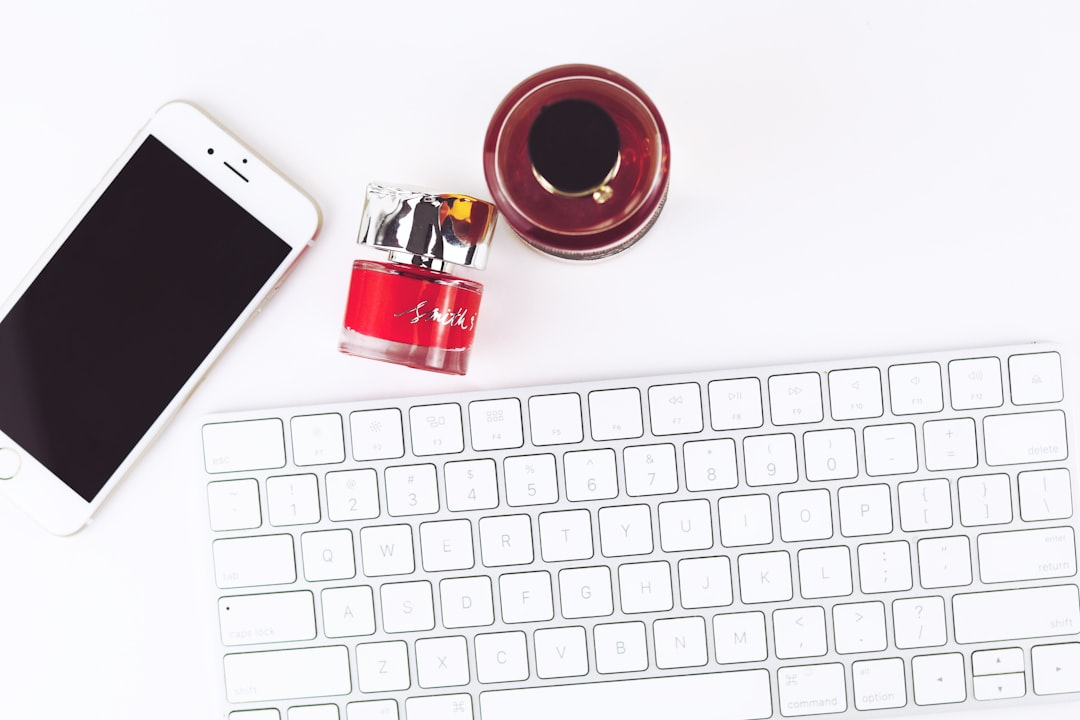phone: (1, 92, 325, 523)
